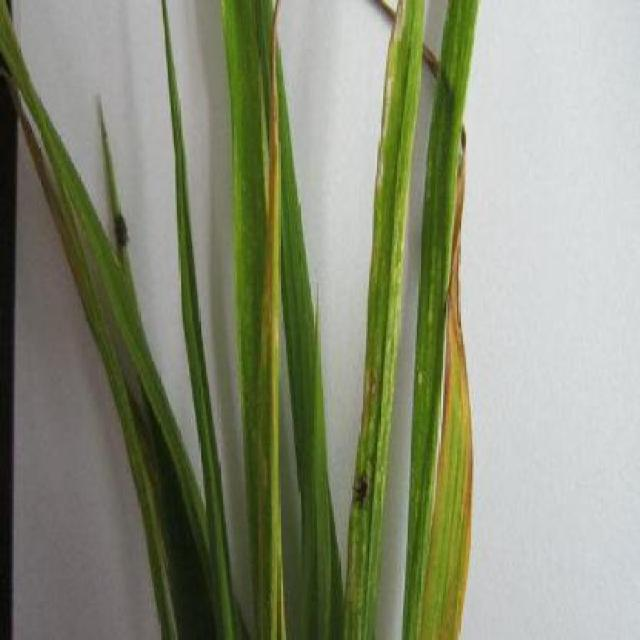rice-bug: (352, 467, 370, 508), (115, 209, 132, 248)
